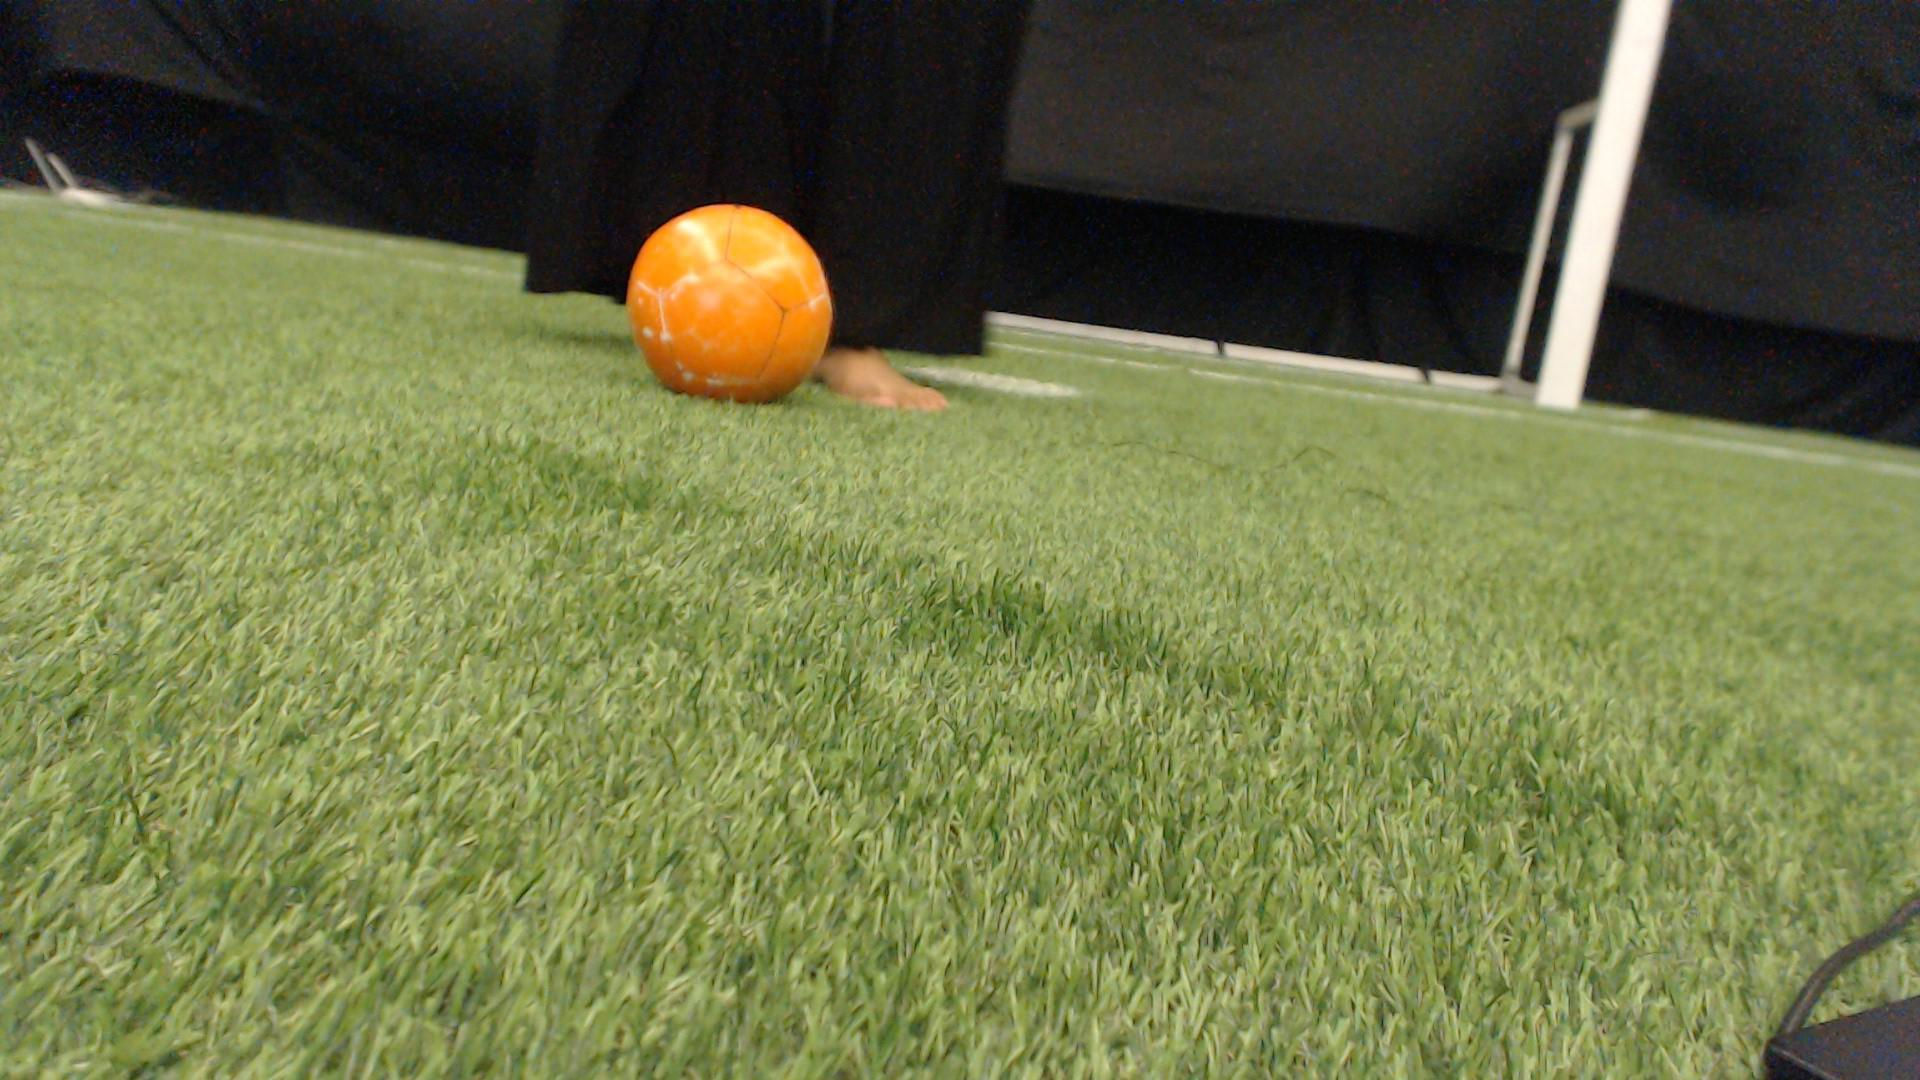bola: (604, 189, 857, 426)
